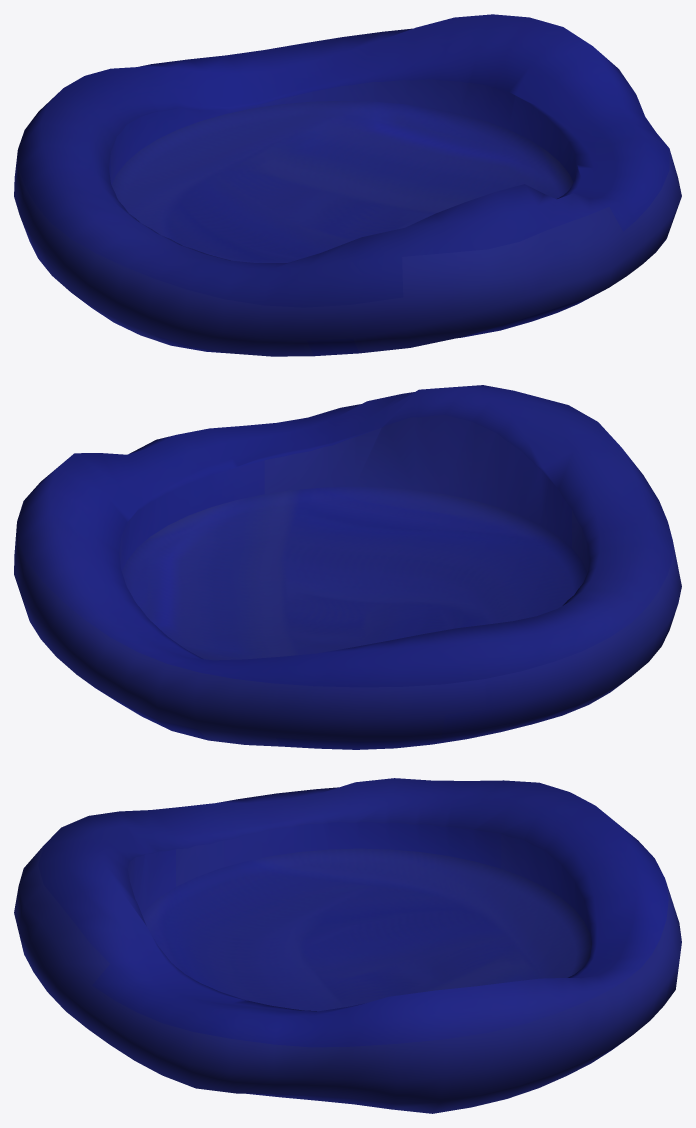
The model's file is waxSeal.fbx.
3 views of the same model, one above another, from view 1: azimuth 30°, elevation 25°; view 2: azimuth 150°, elevation 25°; view 3: azimuth 270°, elevation 25° (orthographic).
Parts seen in each view (by area): view 1: Torus; view 2: Torus; view 3: Torus.
Part boxes in pixels (<box>): Torus: <box>14,14,681,356</box>; Torus: <box>14,385,681,749</box>; Torus: <box>14,778,681,1113</box>.
Size of the model in its own units: 245 by 59.92 by 248.
